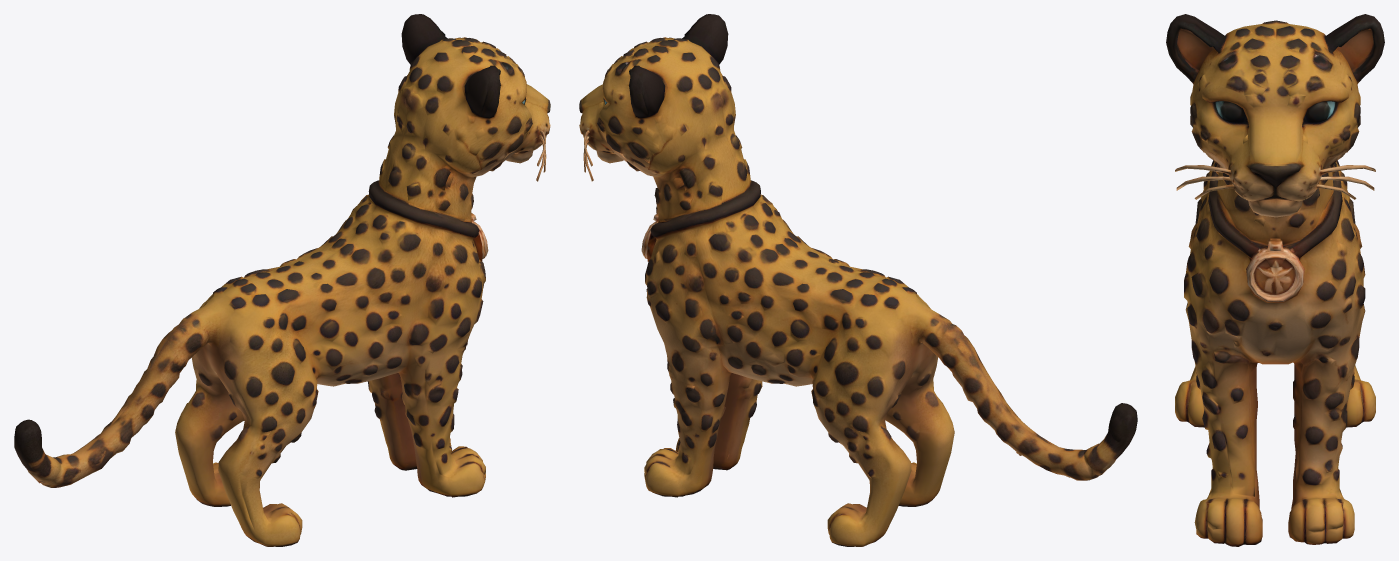
Rendered from leopard.glb.
3 renders of one model, left to right at view 1: azimuth 30°, elevation 25°; view 2: azimuth 150°, elevation 25°; view 3: azimuth 270°, elevation 25°, orthographic. The views are drawn at different scales.
Parts seen in each view (by area): view 1: tripo_node_2200f453-a785-4056-925a-4f9ae360e98f; view 2: tripo_node_2200f453-a785-4056-925a-4f9ae360e98f; view 3: tripo_node_2200f453-a785-4056-925a-4f9ae360e98f.
Boxes of the visible parts, box(x1,y1,x2,y2) form: tripo_node_2200f453-a785-4056-925a-4f9ae360e98f: box(14, 14, 550, 546); tripo_node_2200f453-a785-4056-925a-4f9ae360e98f: box(579, 14, 1137, 546); tripo_node_2200f453-a785-4056-925a-4f9ae360e98f: box(1166, 14, 1384, 546).
Bounding box in the file's own units: 0.3982 × 0.3 × 0.113.
1 material, 1 textured.
